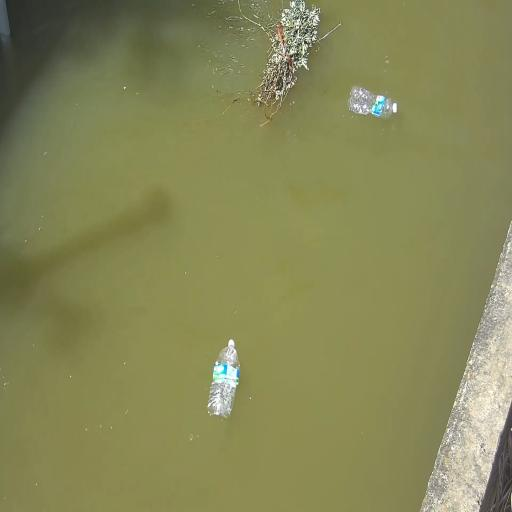plastic: (208, 339, 239, 418), (348, 86, 397, 119)
twig: (221, 0, 342, 127)
